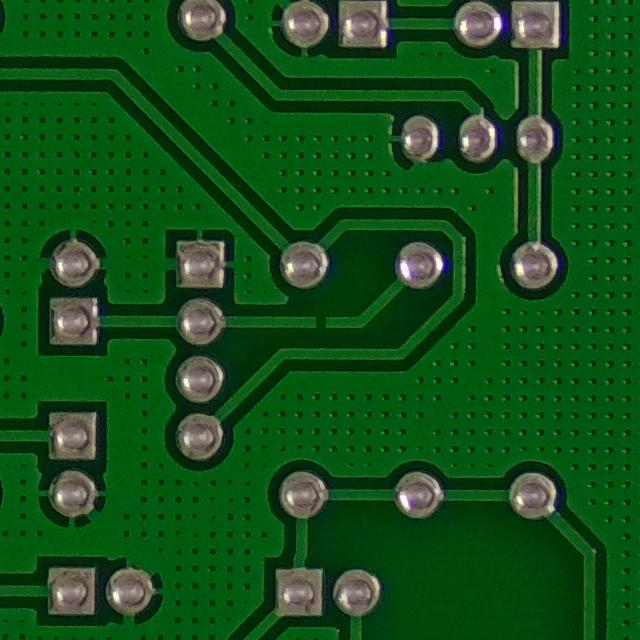open_circuit: (303, 304, 338, 337)
